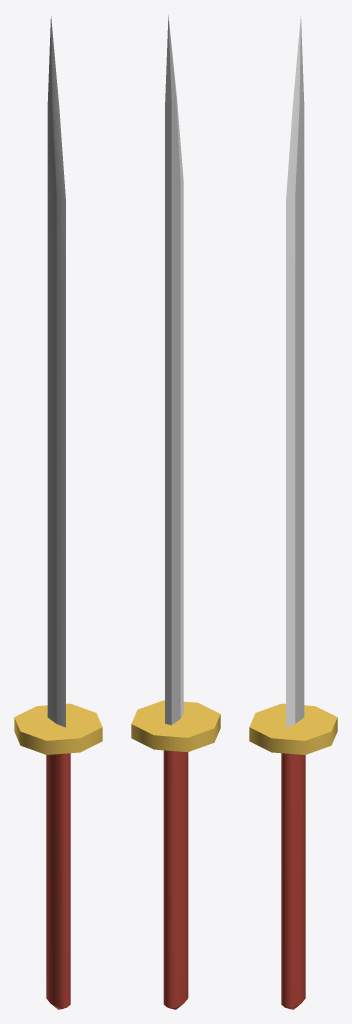
Rendered from Katana.fbx.
The picture shows the model from 3 angles, left to right: view 1: azimuth 30°, elevation 25°; view 2: azimuth 150°, elevation 25°; view 3: azimuth 330°, elevation 25°; orthographic projection.
Parts seen in each view (by area): view 1: Katana; view 2: Katana; view 3: Katana.
Part boxes in pixels (left/top/right/bottom): Katana: left=14, top=16, right=102, bottom=1009; Katana: left=131, top=15, right=220, bottom=1009; Katana: left=249, top=16, right=337, bottom=1009.
Size of the model in its own units: 14.66 by 182 by 14.66.
